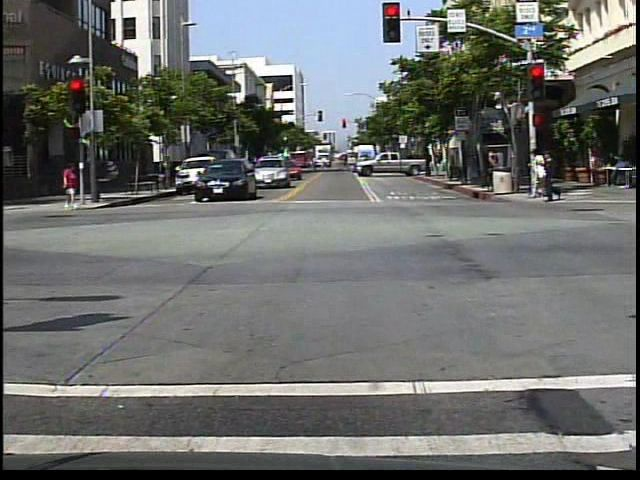person: (538, 149, 565, 207), (61, 161, 82, 213), (528, 146, 547, 201)
